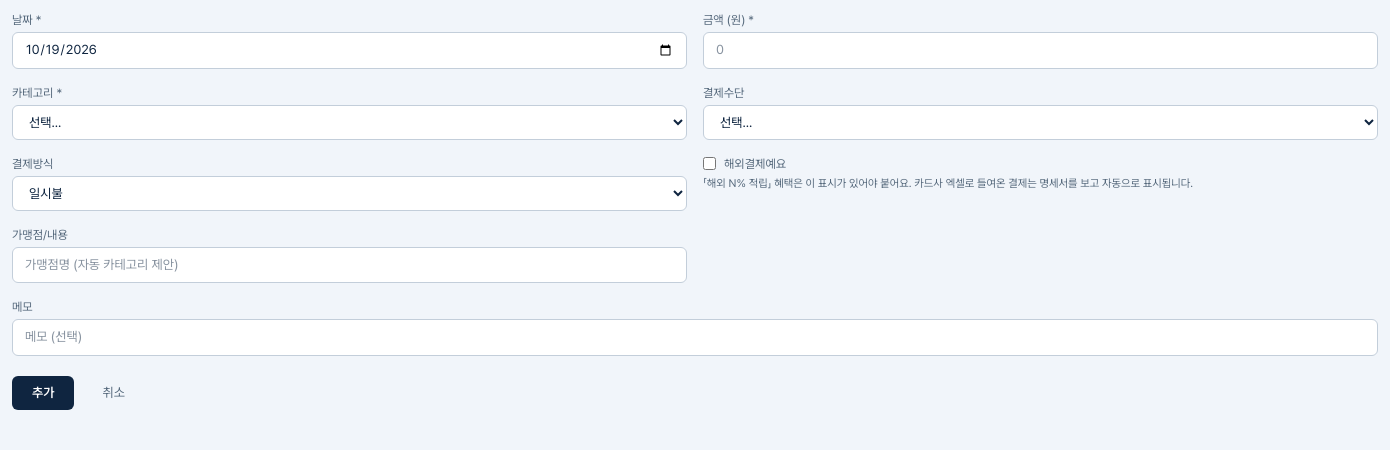
it: TransactionForm › E. 예산 힌트 › 카테고리를 선택하면 잔여예산 문구가 표시된다
The width and height of the screenshot is (1390, 450).
Note:  카테고리 선택
Select "식비" in the dropdown labelled "카테고리 *" at [350, 122], box top-left (12, 105), bottom-right (687, 140)
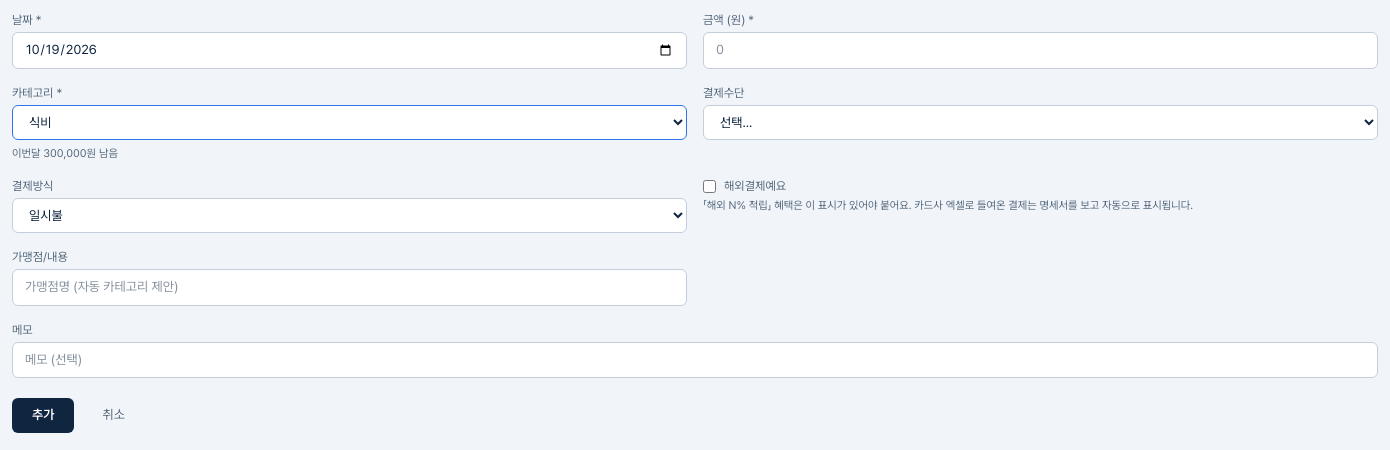
Expected: the text "이번달 300,000원 남음" is shown, top-left (12, 147), bottom-right (118, 160)
